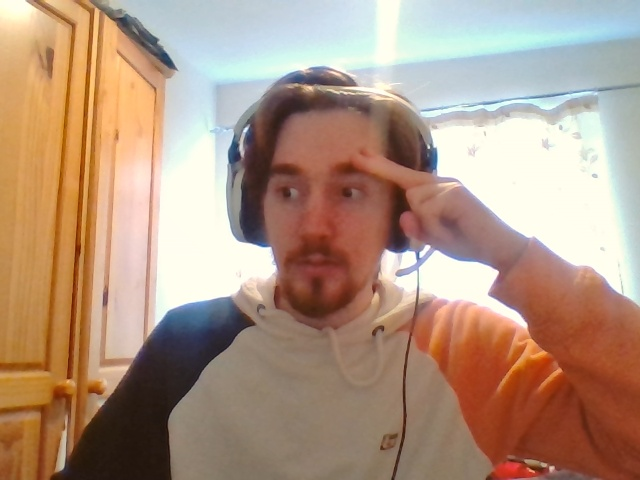name: (350, 148, 470, 251)
